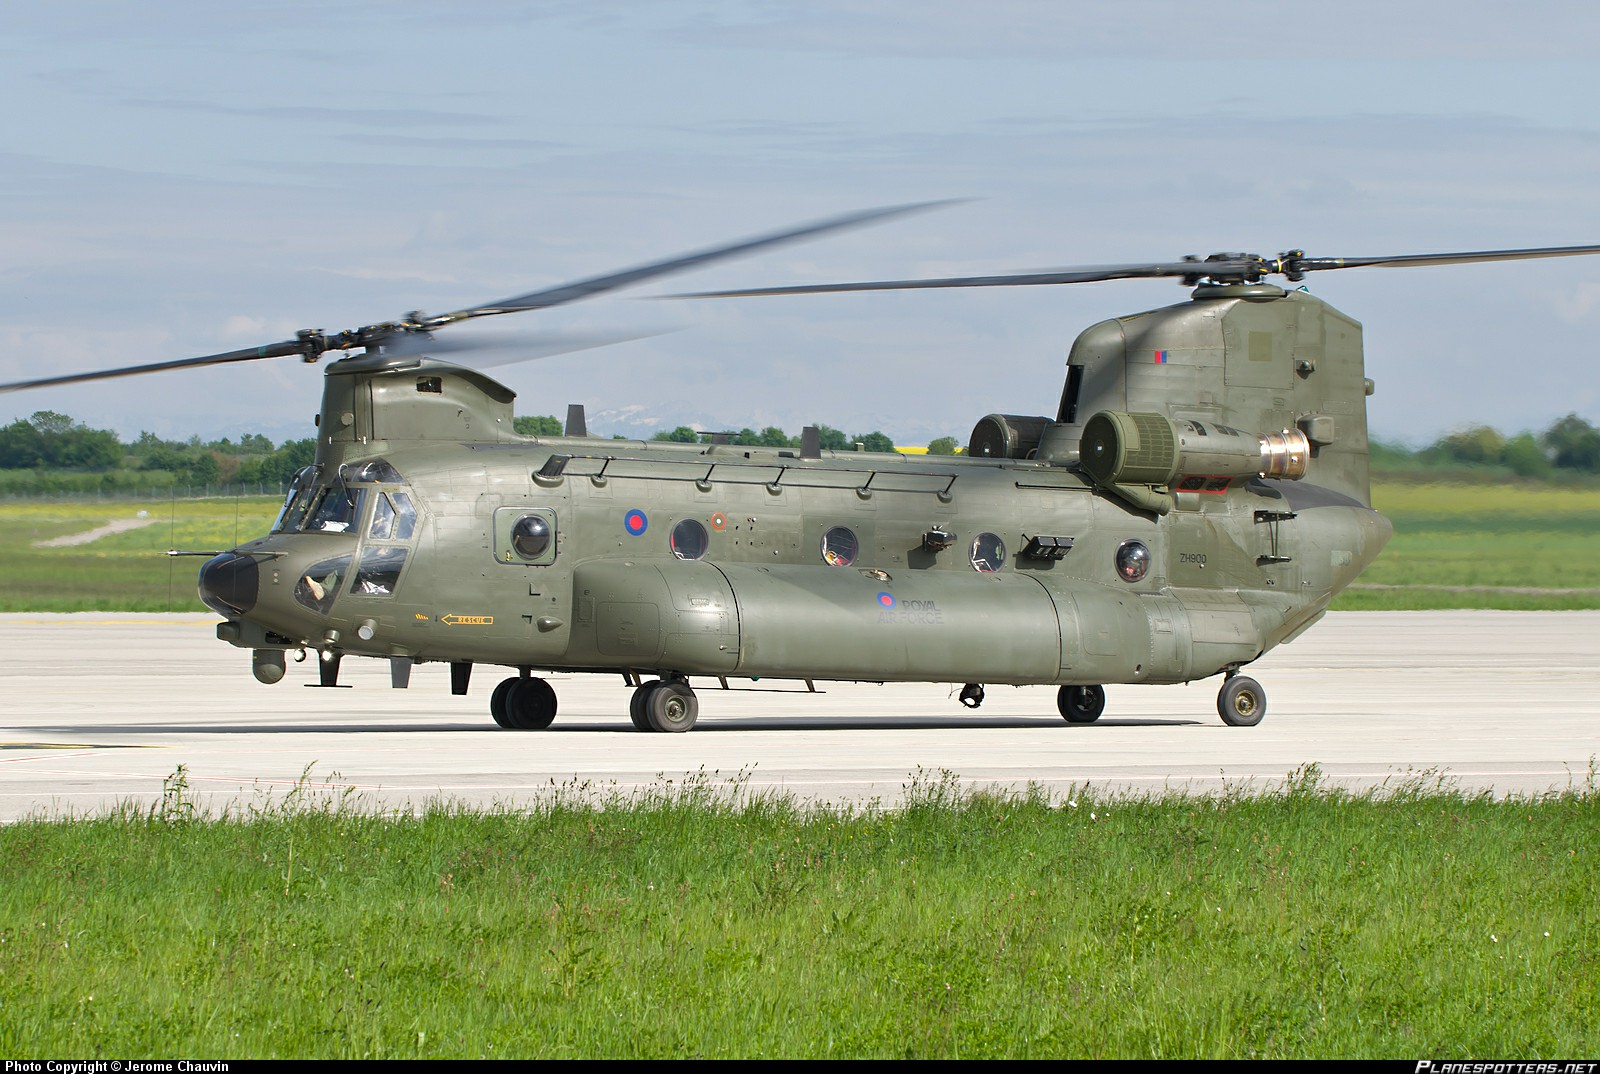chinook: (66, 227, 1590, 743)
